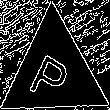P_NE: (29, 41, 79, 103)
